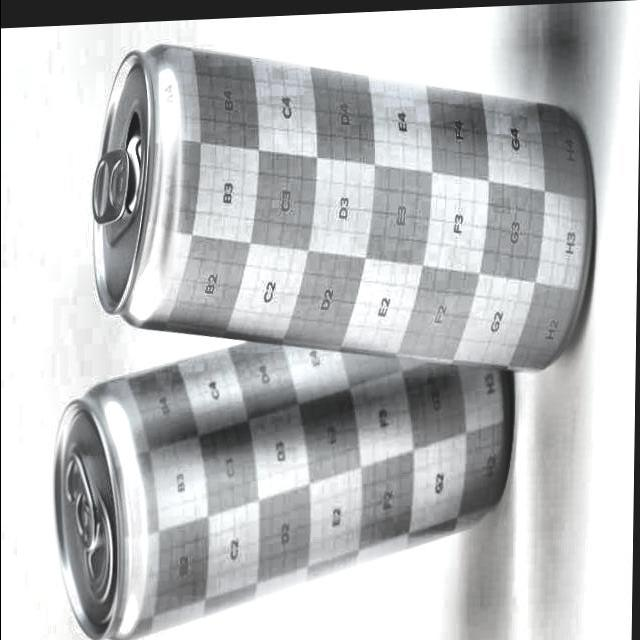litter: (79, 21, 600, 392), (41, 314, 518, 640)
